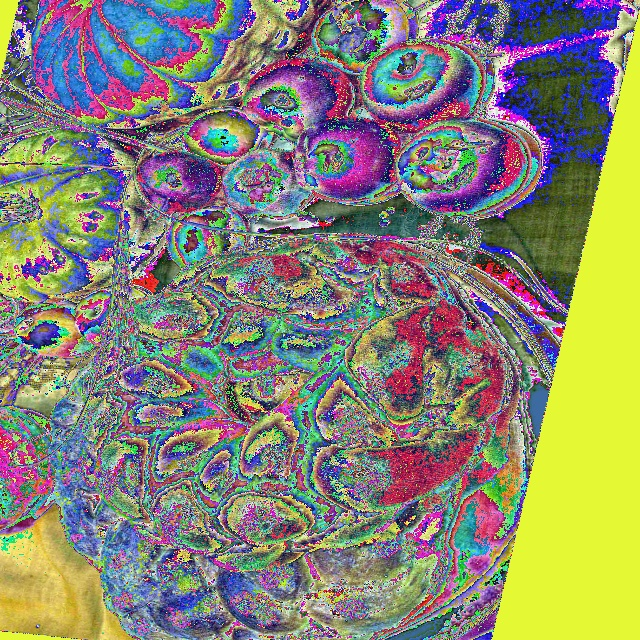background: (0, 177, 513, 639), (30, 0, 532, 233), (0, 127, 144, 358)
